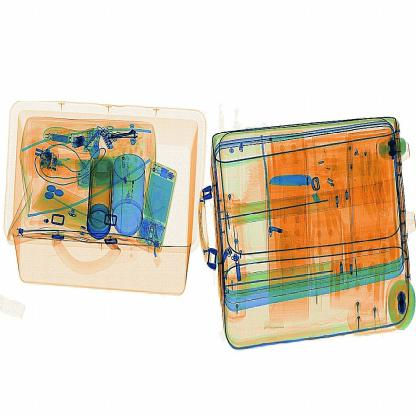wrench: (259, 165, 332, 203)
